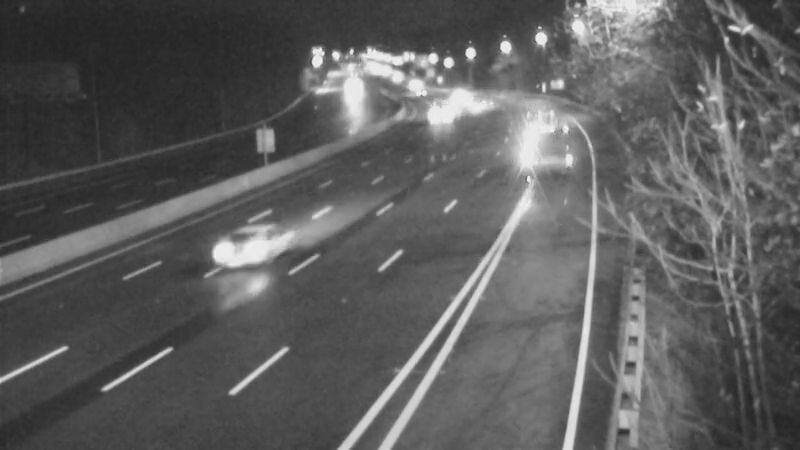vehicle: (197, 214, 277, 294), (372, 53, 422, 103), (392, 61, 442, 111), (402, 71, 452, 121), (428, 70, 478, 120), (450, 81, 500, 131), (419, 85, 469, 135), (525, 105, 575, 155), (329, 70, 379, 120)
